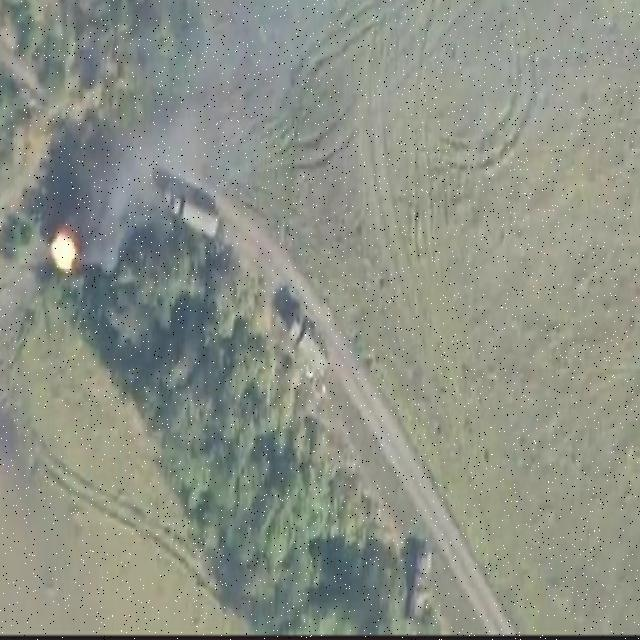TRUCK: (158, 167, 222, 249), (284, 296, 335, 386), (404, 533, 435, 629)
